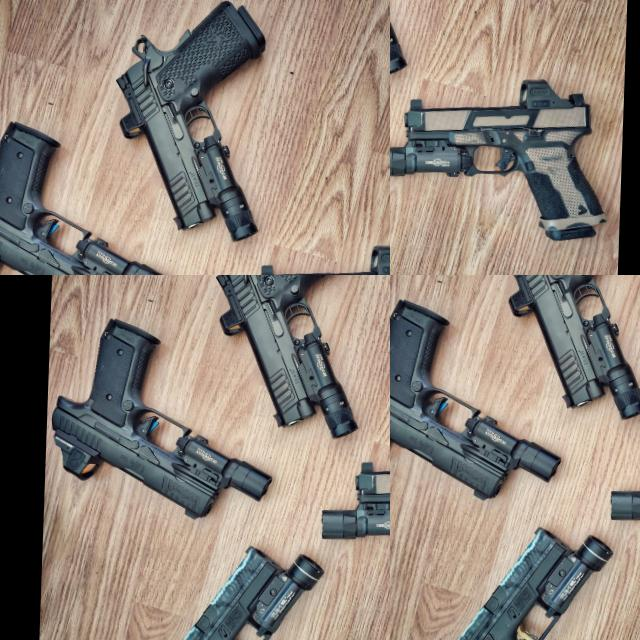handgun: (390, 292, 517, 501), (497, 275, 640, 411), (426, 521, 578, 640), (69, 569, 155, 640)
